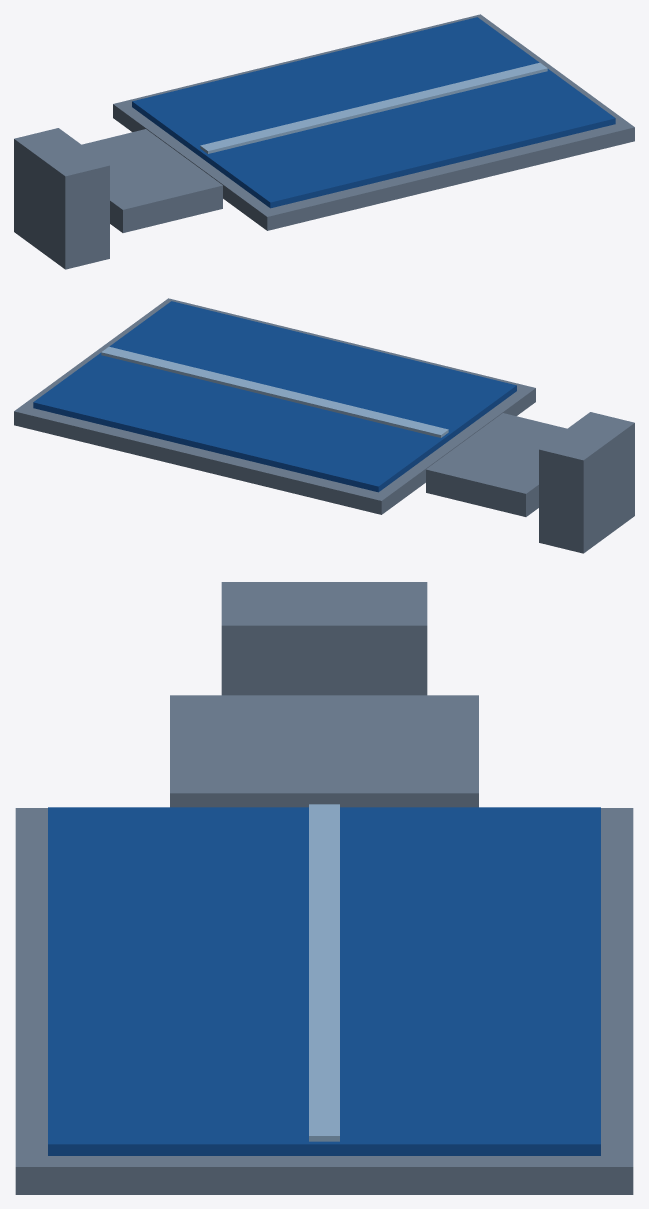
The model's file is sol-s.glb.
The picture shows the model from 3 angles, top to bottom: view 1: azimuth 30°, elevation 25°; view 2: azimuth 150°, elevation 25°; view 3: azimuth 270°, elevation 25°; orthographic projection. The views are drawn at different scales.
Parts seen in each view (by area): view 1: panel_cells_top_1, panel_substrate_1, solar_mount_bracket, solar_yoke_arm, panel_busbar_1; view 2: panel_cells_top_1, panel_substrate_1, solar_mount_bracket, solar_yoke_arm, panel_busbar_1; view 3: panel_cells_top_1, panel_substrate_1, solar_yoke_arm, solar_mount_bracket, panel_busbar_1.
Part boxes in pixels (<box>): panel_cells_top_1: <box>132,17,615,208</box>; panel_substrate_1: <box>113,14,634,230</box>; solar_mount_bracket: <box>14,128,109,269</box>; solar_yoke_arm: <box>82,129,222,232</box>; panel_busbar_1: <box>200,62,547,153</box>; panel_cells_top_1: <box>33,301,516,492</box>; panel_substrate_1: <box>14,298,535,514</box>; solar_mount_bracket: <box>539,412,634,553</box>; solar_yoke_arm: <box>426,413,566,516</box>; panel_busbar_1: <box>101,346,448,437</box>; panel_cells_top_1: <box>48,807,600,1155</box>; panel_substrate_1: <box>15,808,633,1194</box>; solar_yoke_arm: <box>170,695,478,807</box>; solar_mount_bracket: <box>221,582,427,695</box>; panel_busbar_1: <box>309,804,339,1141</box>.
Bounding box in the file's own units: 0.93 × 0.16 × 0.48.
